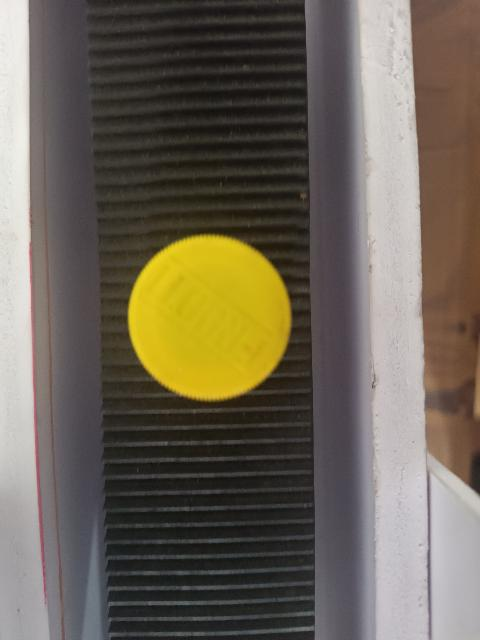bottlecap: (126, 230, 294, 402)
